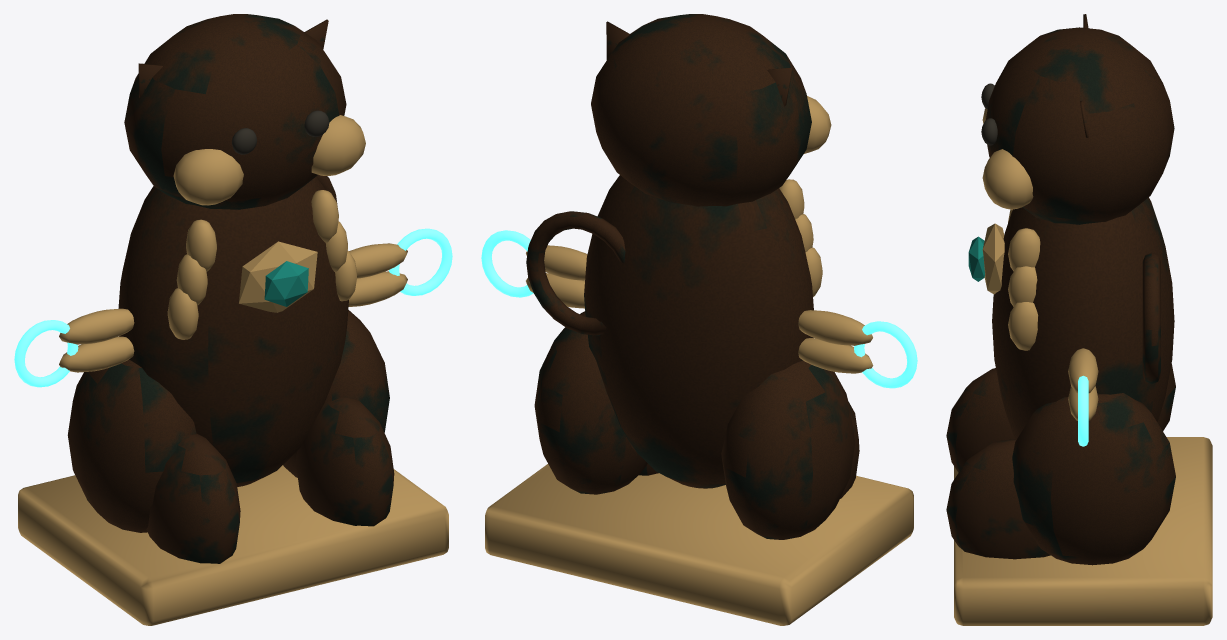
The model's file is guardian_statue.fbx.
The picture shows the model from 3 angles, left to right: view 1: azimuth 30°, elevation 25°; view 2: azimuth 150°, elevation 25°; view 3: azimuth 270°, elevation 25°; orthographic projection.
Visible parts, largest first — view 1: Reviewed_guardian_statue_Body.005, TH10_Guardian_Handle.016, TH10_Guardian_Handle.017; view 2: Reviewed_guardian_statue_Body.005, TH10_Guardian_Handle.016, TH10_Guardian_Handle.017; view 3: Reviewed_guardian_statue_Body.005, TH10_Guardian_Handle.017.
Boxes of the visible parts, x1,y1,x2,y2 form: Reviewed_guardian_statue_Body.005: (18,14,448,625); TH10_Guardian_Handle.016: (14,320,78,387); TH10_Guardian_Handle.017: (389,228,452,295); Reviewed_guardian_statue_Body.005: (485,14,913,625); TH10_Guardian_Handle.016: (854,321,917,388); TH10_Guardian_Handle.017: (481,230,533,297); Reviewed_guardian_statue_Body.005: (946,14,1212,625); TH10_Guardian_Handle.017: (1078,375,1088,446).
Bounding box in the file's own units: 0.654 × 0.75 × 0.35.
Materials: 5 (1 with a texture image).
